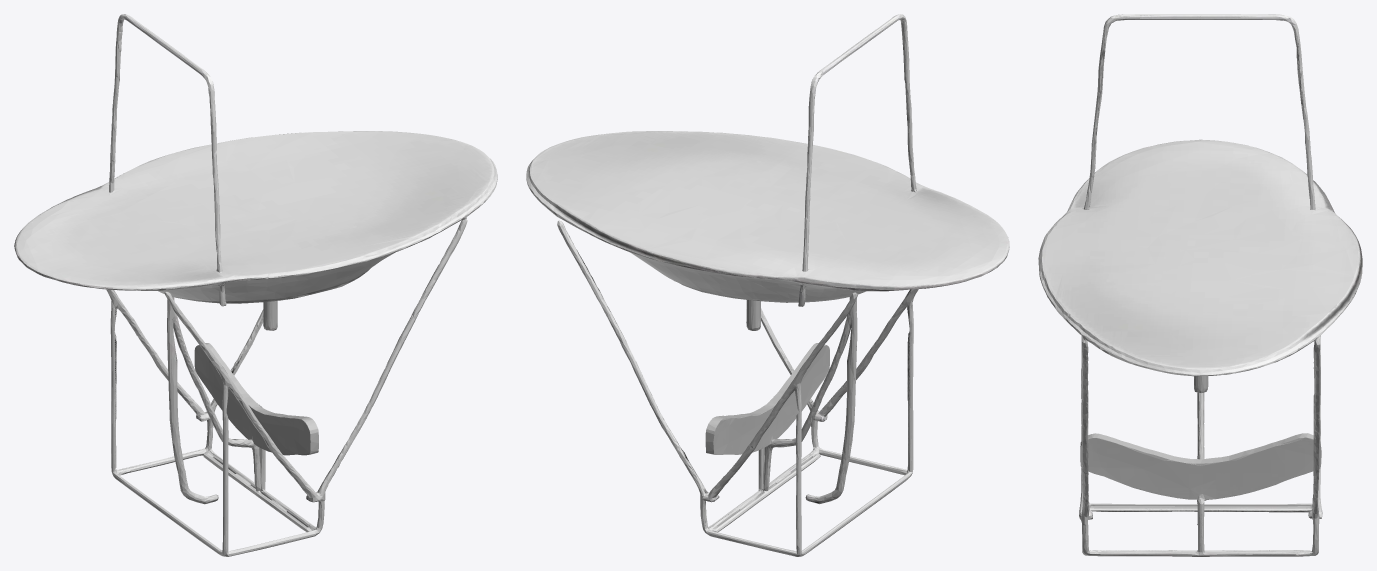
3 renders of one model, left to right at view 1: azimuth 30°, elevation 25°; view 2: azimuth 150°, elevation 25°; view 3: azimuth 270°, elevation 25°, orthographic. The views are drawn at different scales.
Parts seen in each view (by area): view 1: world; view 2: world; view 3: world.
Part boxes in pixels (x1,y1,x2,y2): world: (14,14,497,556); world: (526,14,1009,556); world: (1038,14,1362,556).
Bounding box in the file's own units: 0.9978 × 0.9871 × 0.5864.
1 material, 1 textured.
